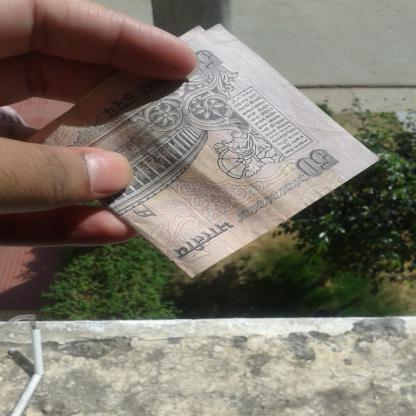Old50Back: (26, 21, 382, 279)
